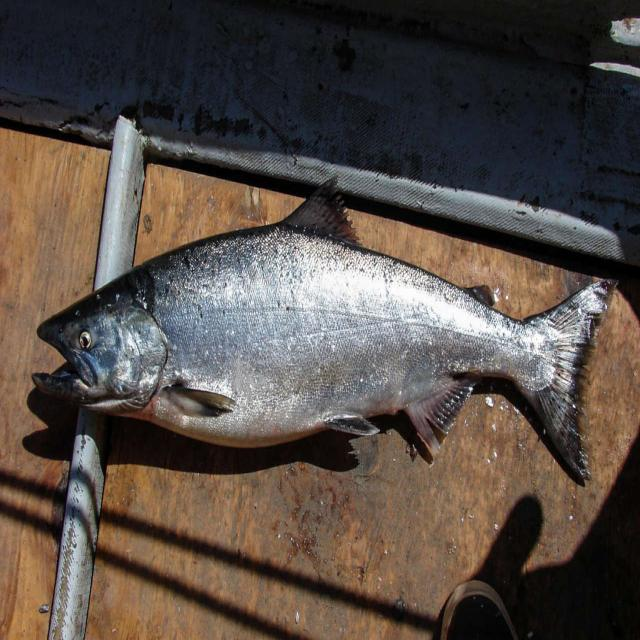salmon: (22, 163, 616, 510)
